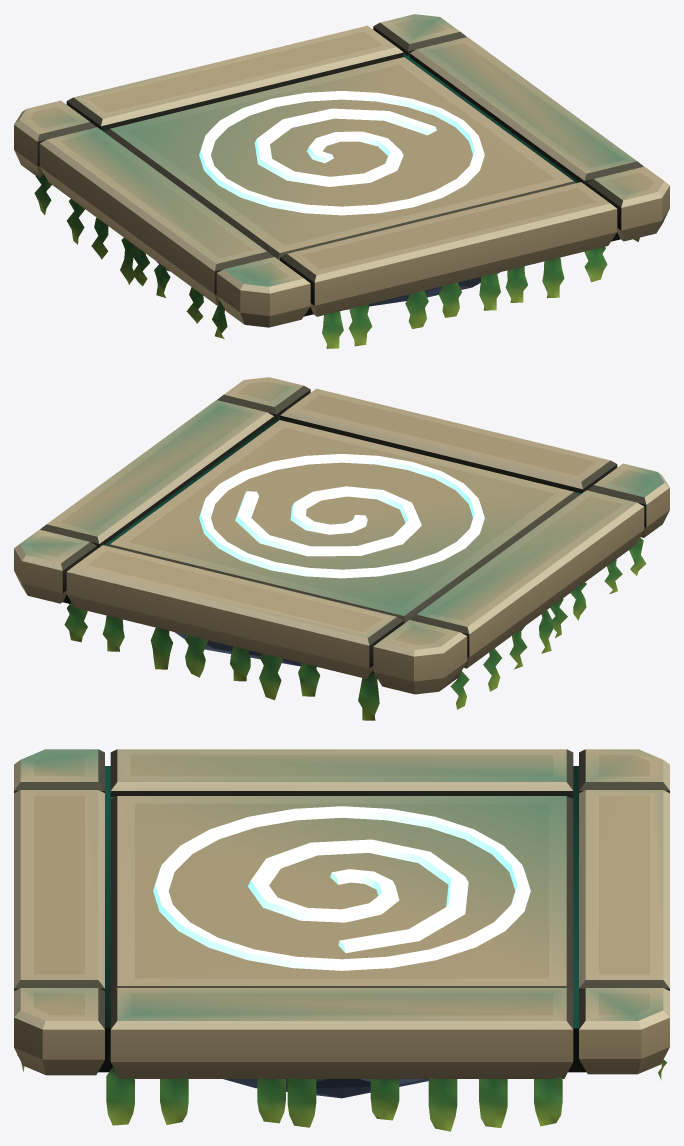
File: platform_underwater.glb
3 renders of one model, top to bottom at view 1: azimuth 30°, elevation 25°; view 2: azimuth 150°, elevation 25°; view 3: azimuth 270°, elevation 25°, orthographic. The views are drawn at different scales.
Visible parts, largest first — view 1: platform_underwater; view 2: platform_underwater; view 3: platform_underwater.
Boxes of the visible parts, box(x1,y1,x2,y2) form: platform_underwater: box(14, 14, 669, 348); platform_underwater: box(14, 377, 669, 720); platform_underwater: box(14, 749, 669, 1131).
Bounding box in the file's own units: 2.97 × 0.6 × 2.97.
